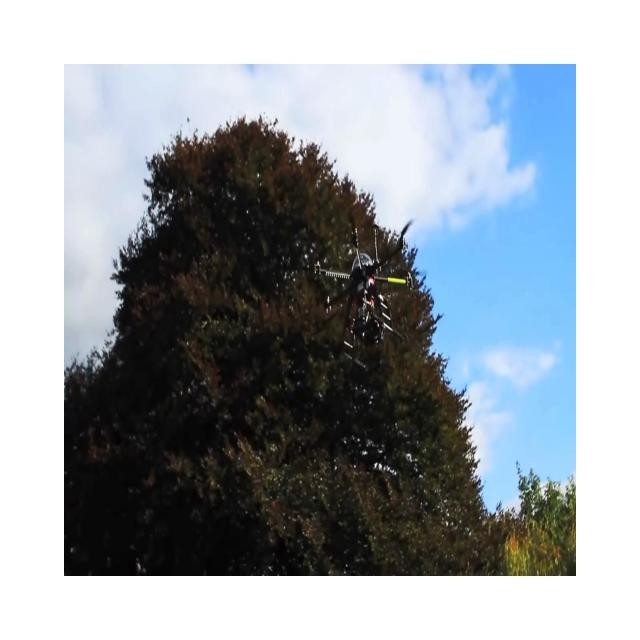drone: (313, 220, 415, 368)
